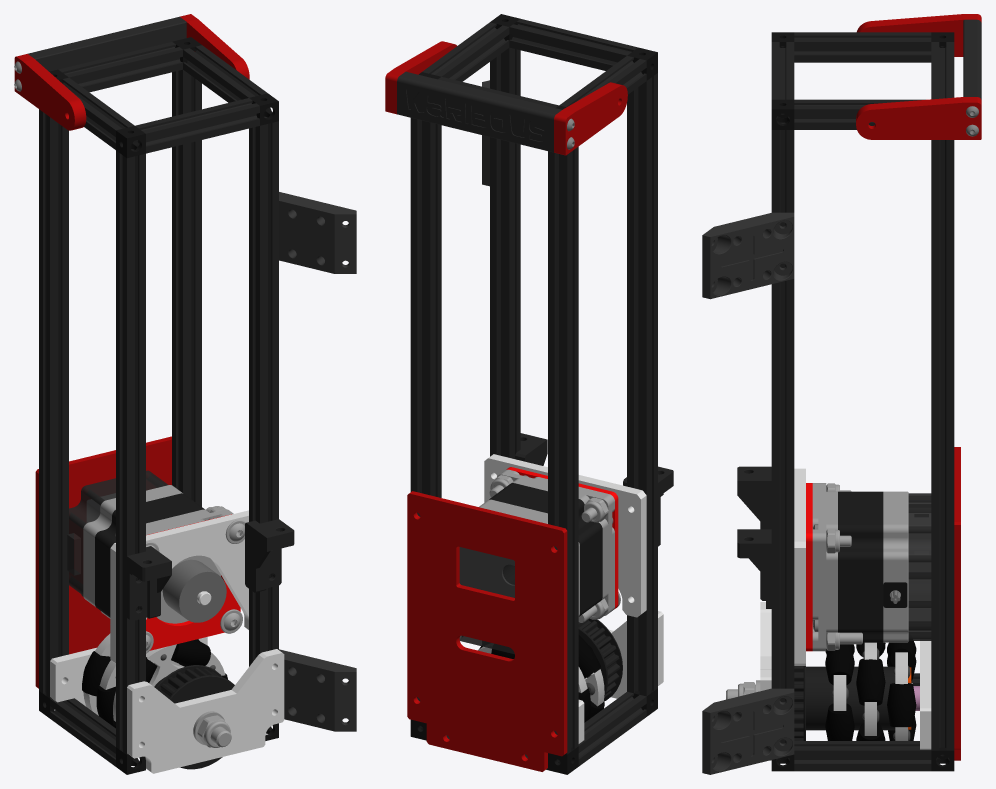
File: ColonneMoteur.glb
3 views of the same model, side by side, from view 1: azimuth 30°, elevation 25°; view 2: azimuth 150°, elevation 25°; view 3: azimuth 270°, elevation 25° (orthographic). The views are drawn at different scales.
Visible parts, largest first — view 1: MB_300_3, MB_300_1, MB_300, MB_300_2, PlaqueInterneSupportRoue, CarterMoteur, BodyPartSide_1, BodyPartSide, SupportMoteur5mm, MB_60_4, Front, MB_60_6 (+20 smaller); view 2: CarterMoteur, MB_300_1, MB_300_3, MB_300_2, MB_300, Front, SupportMoteur5mm, MB_60_4, MiddleCore, RearPanel, MB_60_3, MKS_SERVO57B_ (+16 smaller); view 3: MB_300_2, MB_300, MiddleCore, BodyPartSide_1, BodyPartSide, Lateral001_1, MB_60_5, MB_60, FrontPanel, MKS_SERVO57B_, RearPanel, Pulley001 (+24 smaller).
Boxes of the visible parts, x1,y1,x2,y2 form: MB_300_3: [39, 109, 68, 698]; MB_300_1: [116, 149, 145, 754]; MB_300: [249, 116, 278, 666]; MB_300_2: [172, 60, 201, 506]; PlaqueInterneSupportRoue: [127, 649, 284, 773]; CarterMoteur: [35, 436, 171, 688]; BodyPartSide_1: [279, 192, 356, 273]; BodyPartSide: [279, 649, 356, 731]; SupportMoteur5mm: [110, 510, 248, 663]; MB_60_4: [135, 98, 259, 153]; Front: [27, 16, 186, 71]; MB_60_6: [58, 42, 182, 92]; CarterMoteur: [407, 491, 567, 771]; MB_300_1: [627, 73, 657, 696]; MB_300_3: [548, 146, 578, 754]; MB_300_2: [410, 118, 441, 701]; MB_300: [490, 47, 520, 458]; Front: [397, 71, 561, 152]; SupportMoteur5mm: [484, 454, 646, 617]; MB_60_4: [509, 19, 637, 70]; MiddleCore: [489, 483, 602, 616]; RearPanel: [460, 499, 579, 616]; MB_60_3: [422, 22, 509, 81]; MKS_SERVO57B_: [459, 547, 514, 654]; MB_300_2: [931, 140, 954, 750]; MB_300: [771, 123, 794, 743]; MiddleCore: [838, 491, 883, 642]; BodyPartSide_1: [702, 212, 794, 299]; BodyPartSide: [702, 688, 794, 774]; Lateral001_1: [856, 100, 981, 139]; MB_60_5: [794, 32, 931, 62]; MB_60: [794, 741, 931, 771]; FrontPanel: [812, 483, 837, 651]; MKS_SERVO57B_: [908, 493, 931, 640]; RearPanel: [883, 491, 908, 642]; Pulley001: [794, 666, 833, 740].
Bounding box in the file's own units: 0.113 × 0.3394 × 0.1224.
